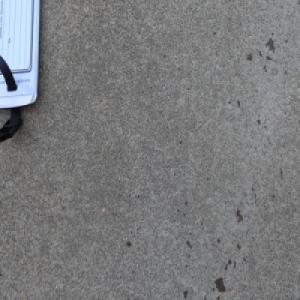LuggageTag: (0, 0, 41, 145)
